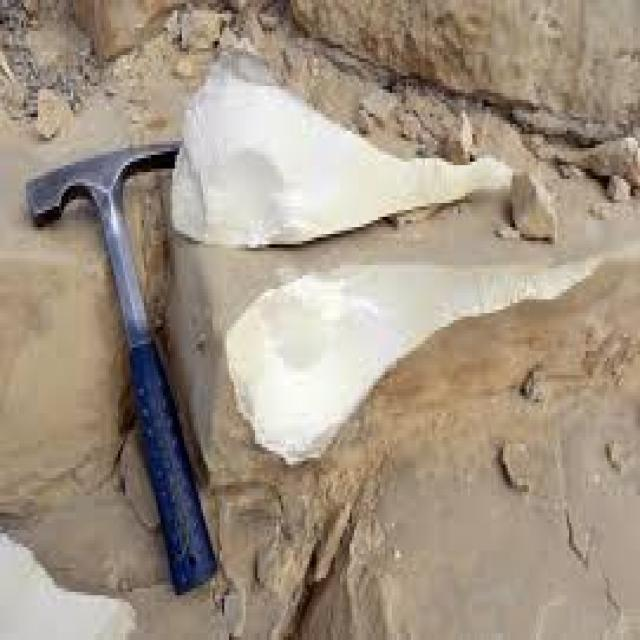hammer: (20, 132, 223, 597)
